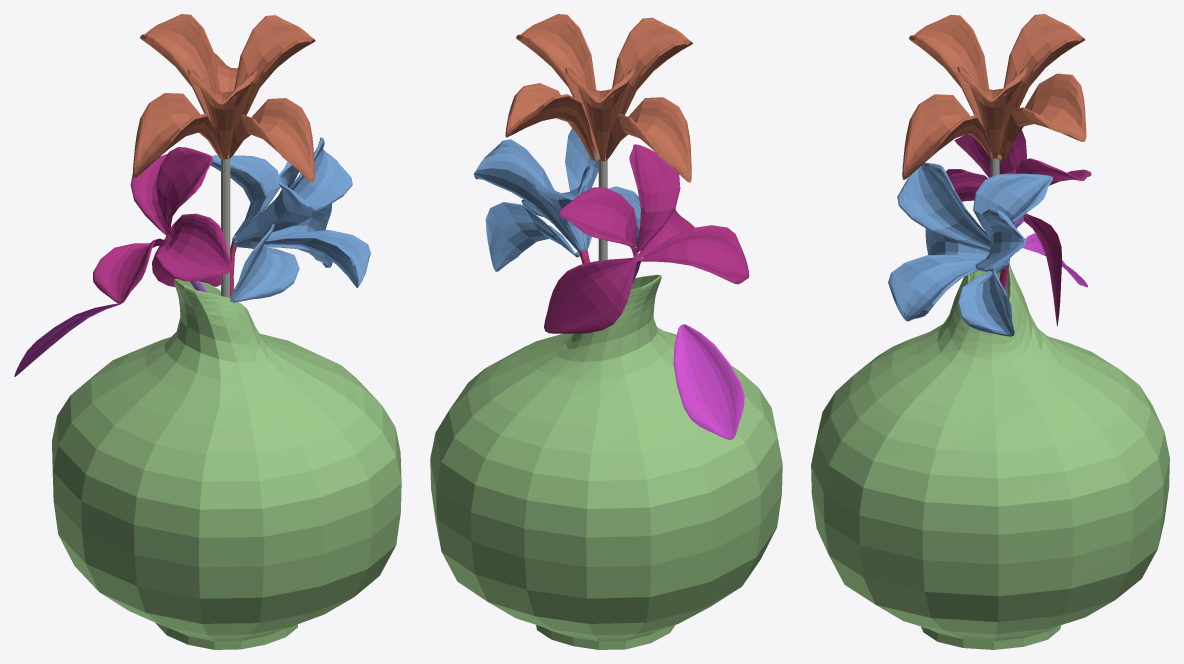
3 views of the same model, side by side, from view 1: azimuth 30°, elevation 25°; view 2: azimuth 150°, elevation 25°; view 3: azimuth 270°, elevation 25° (orthographic).
Visible parts, largest first — view 1: world; view 2: world; view 3: world.
Boxes of the visible parts, left/top/right/bottom form: world: left=14, top=14, right=401, bottom=649; world: left=430, top=14, right=782, bottom=649; world: left=811, top=14, right=1169, bottom=649.
Size of the model in its own units: 0.5816 by 1 by 0.5597.
